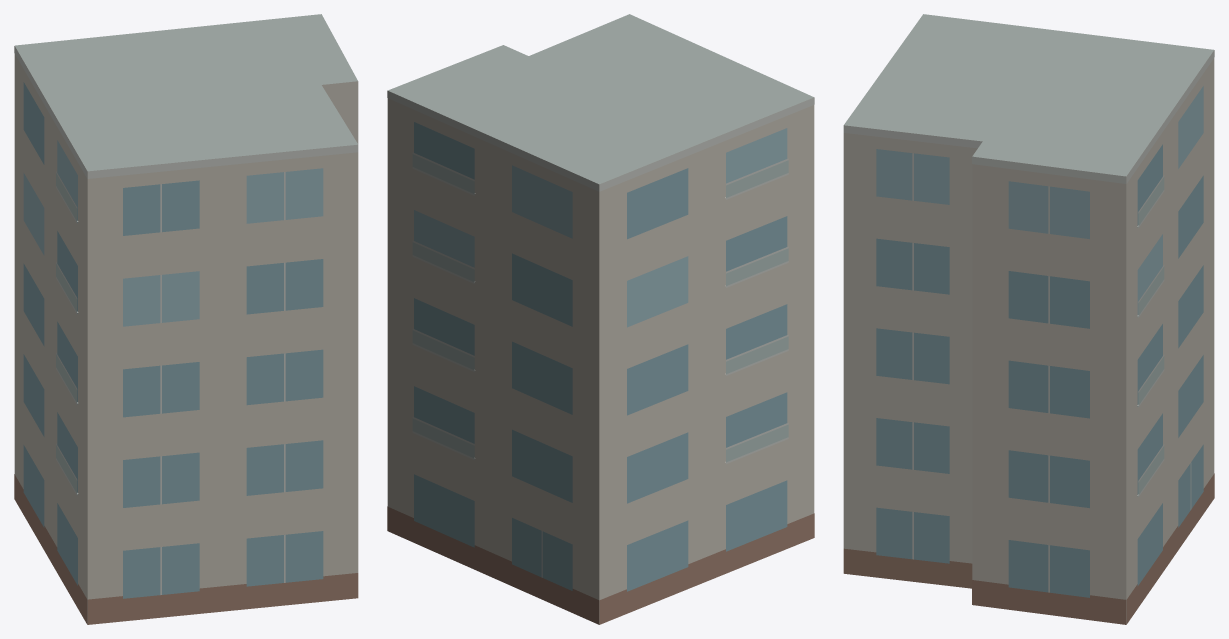
File: survey-upis-32872668.glb
The picture shows the model from 3 angles, left to right: view 1: azimuth 30°, elevation 25°; view 2: azimuth 150°, elevation 25°; view 3: azimuth 270°, elevation 25°; orthographic projection. The views are drawn at different scales.
Parts seen in each view (by area): view 1: survey-upis-32872668.tmp; view 2: survey-upis-32872668.tmp; view 3: survey-upis-32872668.tmp.
Boxes of the visible parts, <box> form: survey-upis-32872668.tmp: <box>14,14,358,624</box>; survey-upis-32872668.tmp: <box>387,14,814,624</box>; survey-upis-32872668.tmp: <box>843,14,1214,624</box>.
Size of the model in its own units: 11.28 by 14.5 by 10.88.
